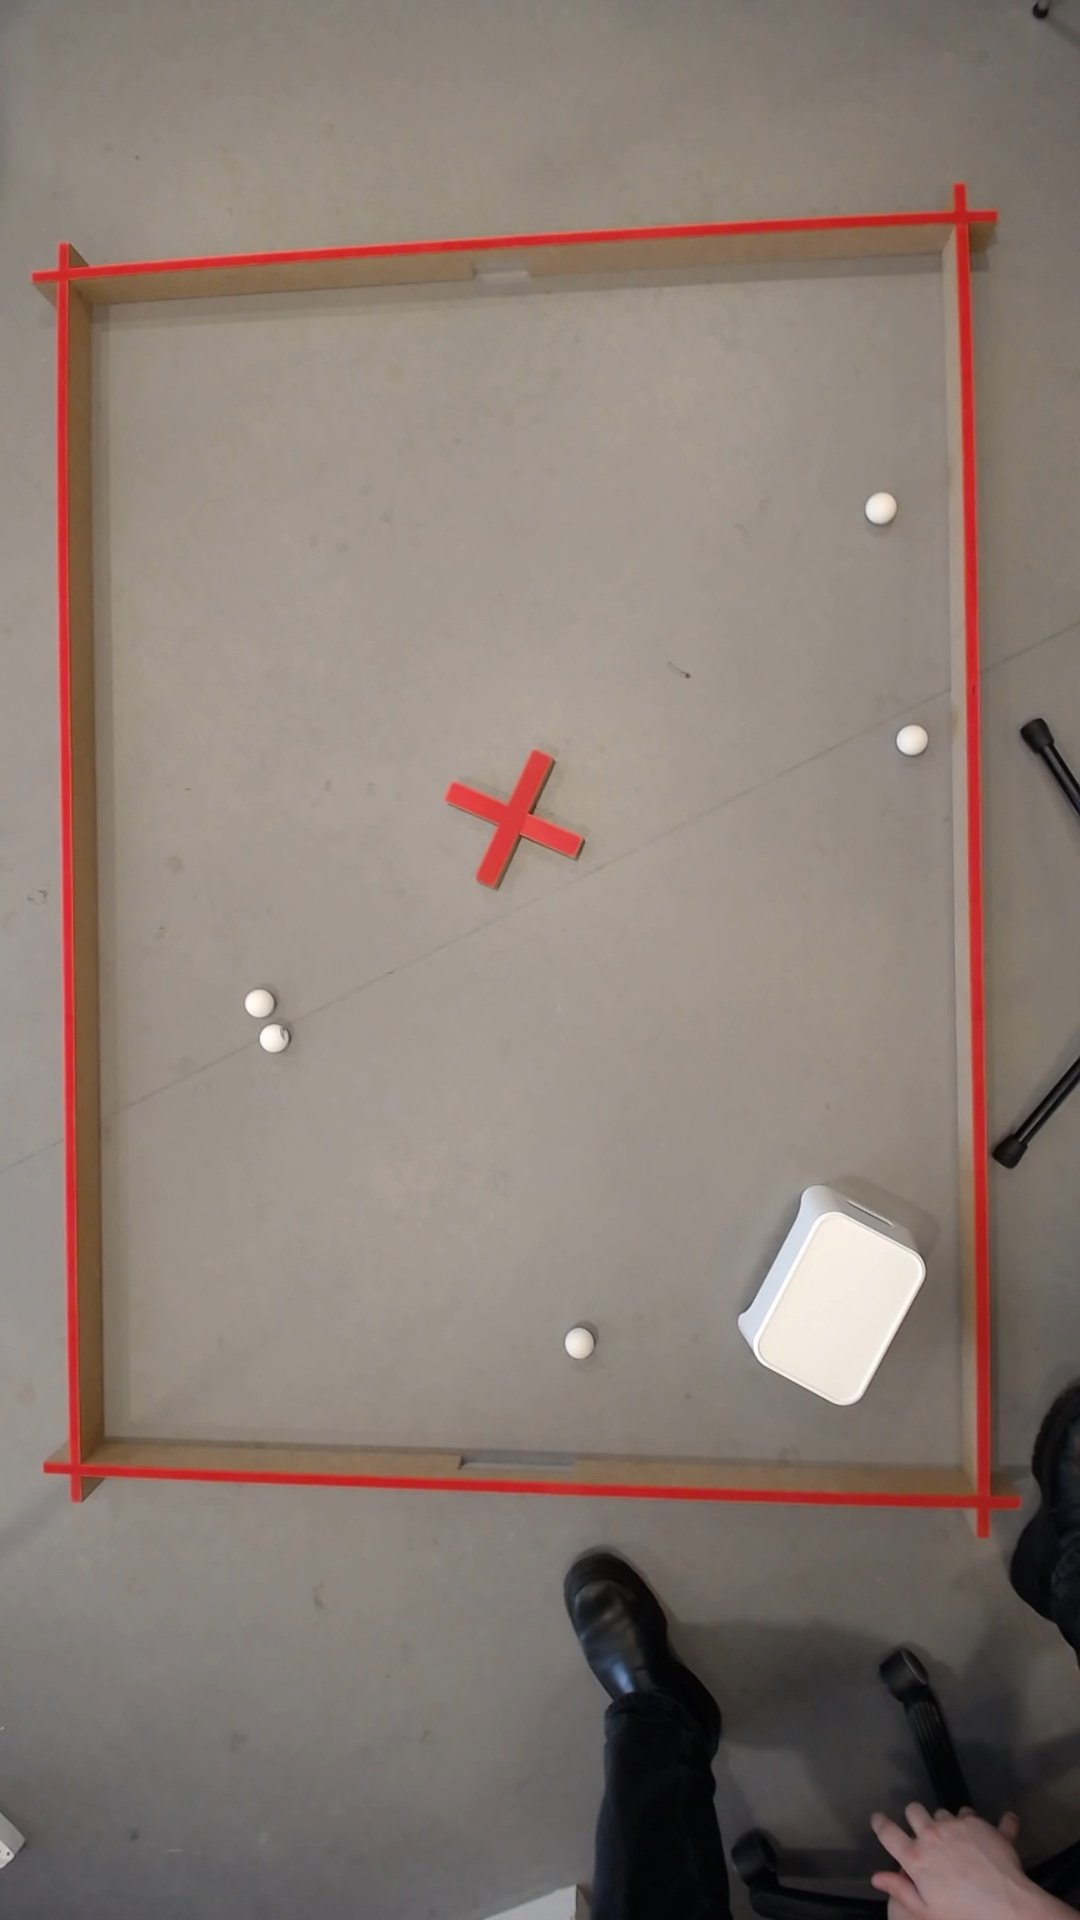balls: (721, 1185, 935, 1412), (860, 487, 899, 526), (890, 719, 930, 758), (239, 984, 276, 1021), (558, 1324, 593, 1361)
car: (253, 1019, 287, 1055)
